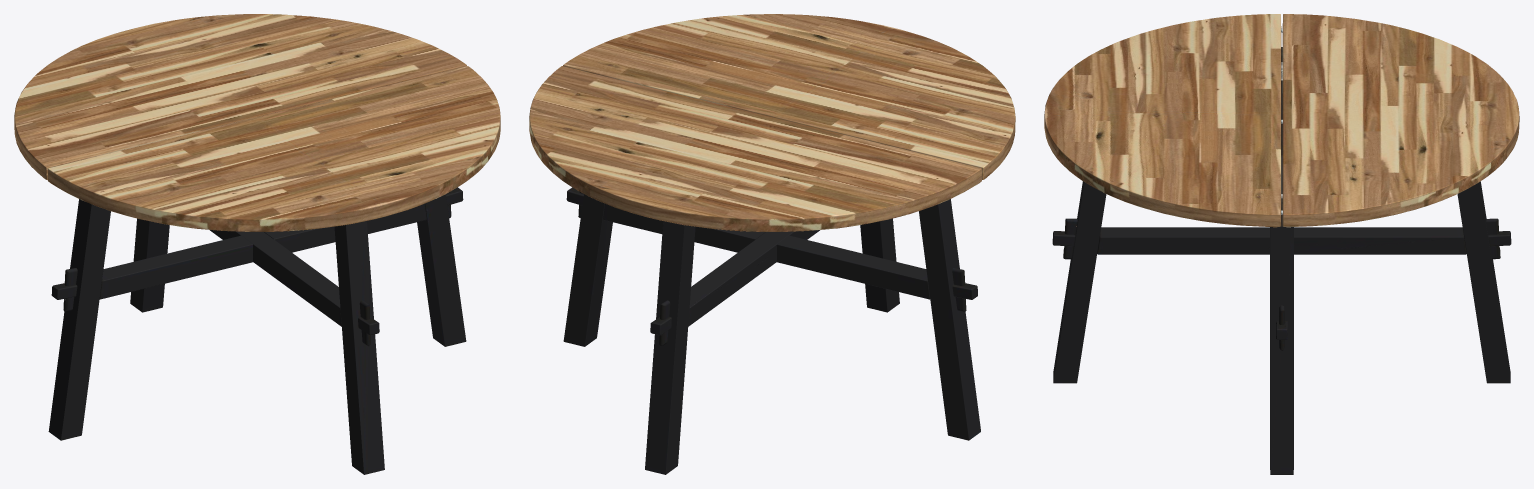
The picture shows the model from 3 angles, left to right: view 1: azimuth 30°, elevation 25°; view 2: azimuth 150°, elevation 25°; view 3: azimuth 270°, elevation 25°; orthographic projection. The views are drawn at different scales.
Visible parts, largest first — view 1: 20593802-SKOGSTA001; view 2: 20593802-SKOGSTA001; view 3: 20593802-SKOGSTA001.
Boxes of the visible parts, x1,y1,x2,y2 form: 20593802-SKOGSTA001: [14, 14, 500, 474]; 20593802-SKOGSTA001: [529, 14, 1015, 474]; 20593802-SKOGSTA001: [1044, 14, 1519, 474].
Size of the model in its own units: 1.2 by 0.7402 by 1.2.
Materials: 1 (1 with a texture image).
